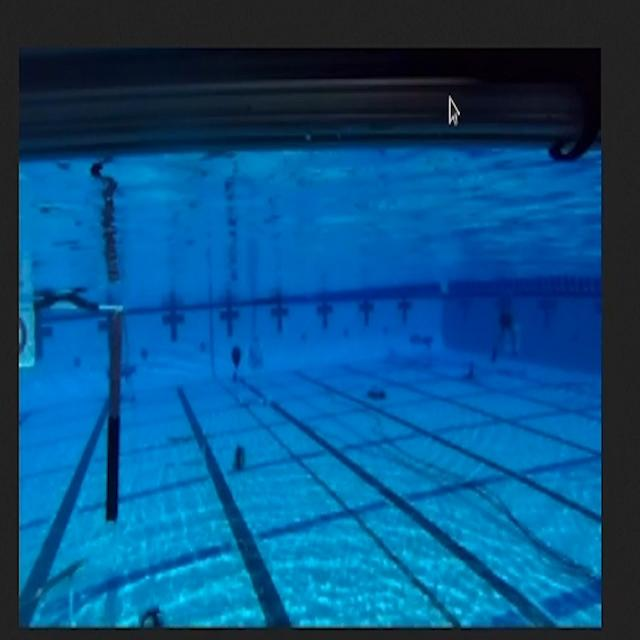Gate: (24, 281, 125, 517)
